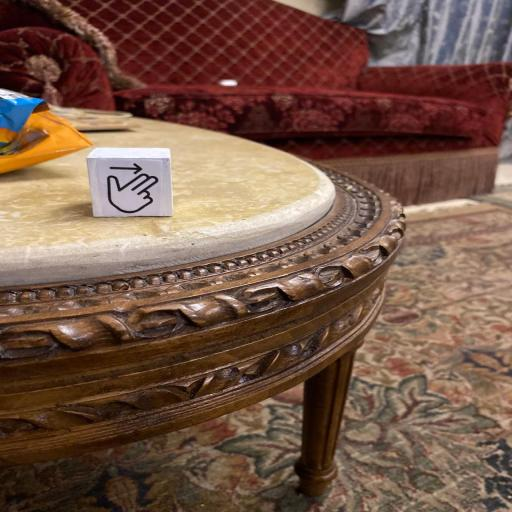RightSwipe: (85, 148, 175, 220)
